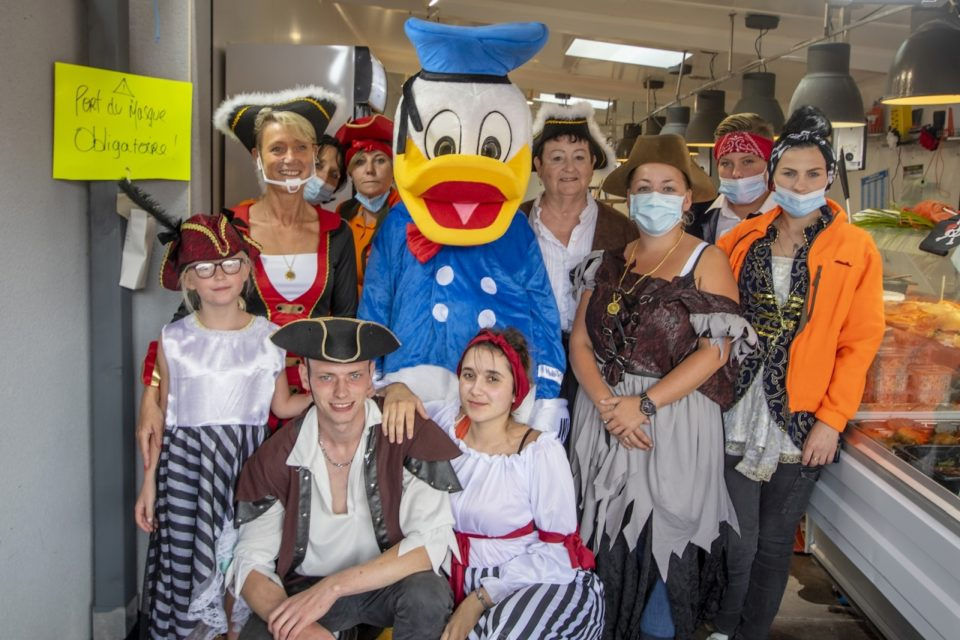with_incorrect_mask: (777, 160, 825, 215), (717, 152, 766, 201)
with_mask: (631, 173, 685, 234), (316, 154, 341, 204)
without_mask: (312, 363, 368, 421), (188, 246, 247, 301), (461, 364, 509, 419), (263, 140, 311, 195), (544, 147, 592, 193), (350, 155, 388, 192)
